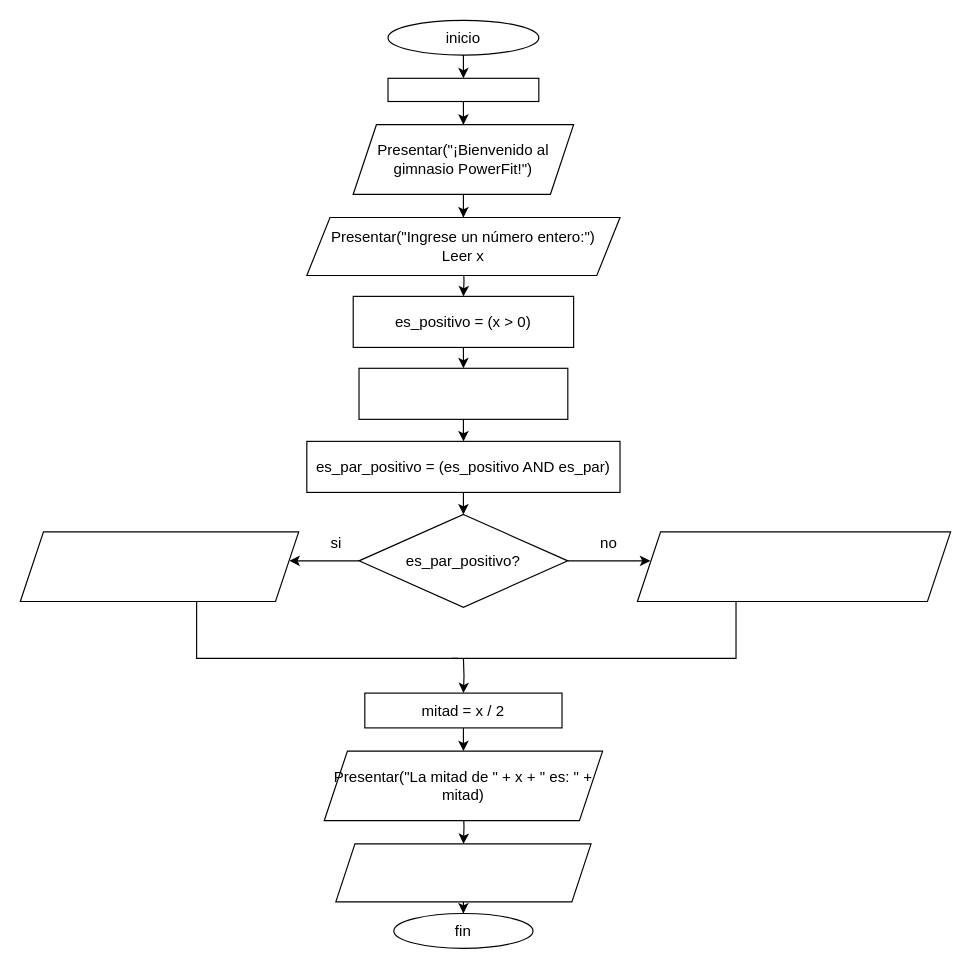
Image size: 971x969. Some labels were removed from this diagram. Here are the shapes that lost their labels. From the top down, the centre of each, then its label:
(x=463, y=89): mitad = 0
(x=463, y=393): es_par = (x % 2 == 0)
(x=159, y=566): Presentar("El número " + x + " es par y positivo.")
(x=793, y=566): Presentar("El número " + x + " NO es par y positivo.")
(x=463, y=872): Presentar("Fin del cálculo.")
